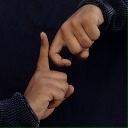hand: (23, 31, 74, 120), (48, 3, 104, 67)
